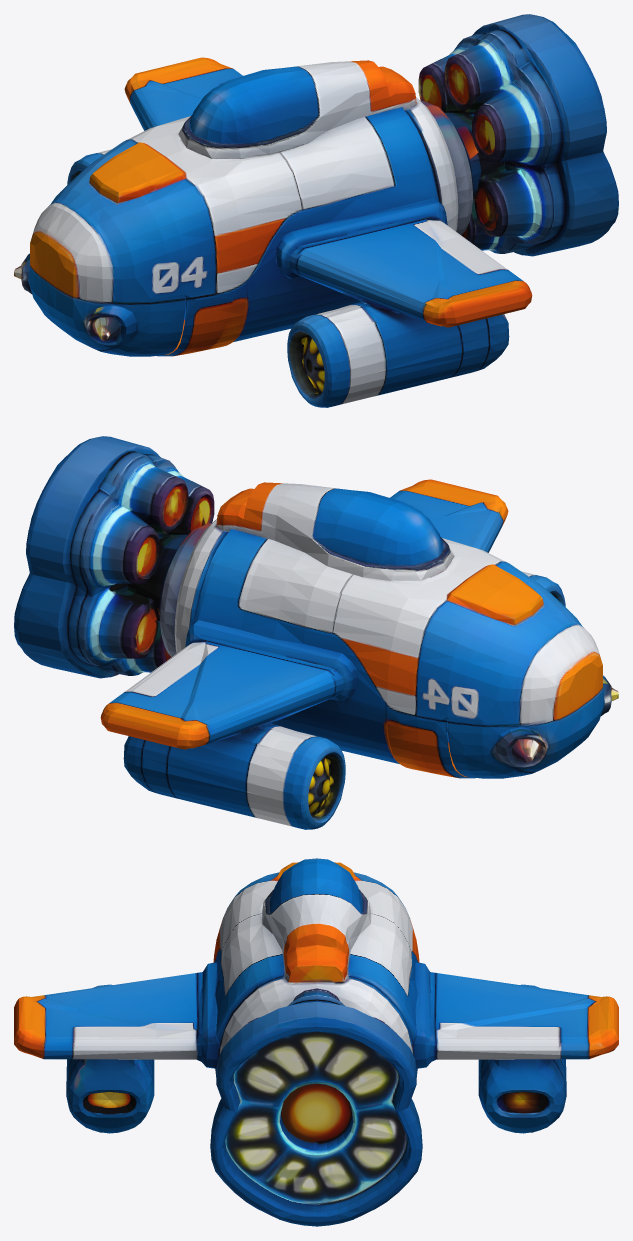
Rendered from Meshy_AI_Azure_Starfighter_04_0629121026_texture.glb.
3 renders of one model, top to bottom at view 1: azimuth 30°, elevation 25°; view 2: azimuth 150°, elevation 25°; view 3: azimuth 270°, elevation 25°, orthographic. The views are drawn at different scales.
Bounding box in the file's own units: 1.78 × 0.8023 × 1.91.
1 material, 1 textured.
